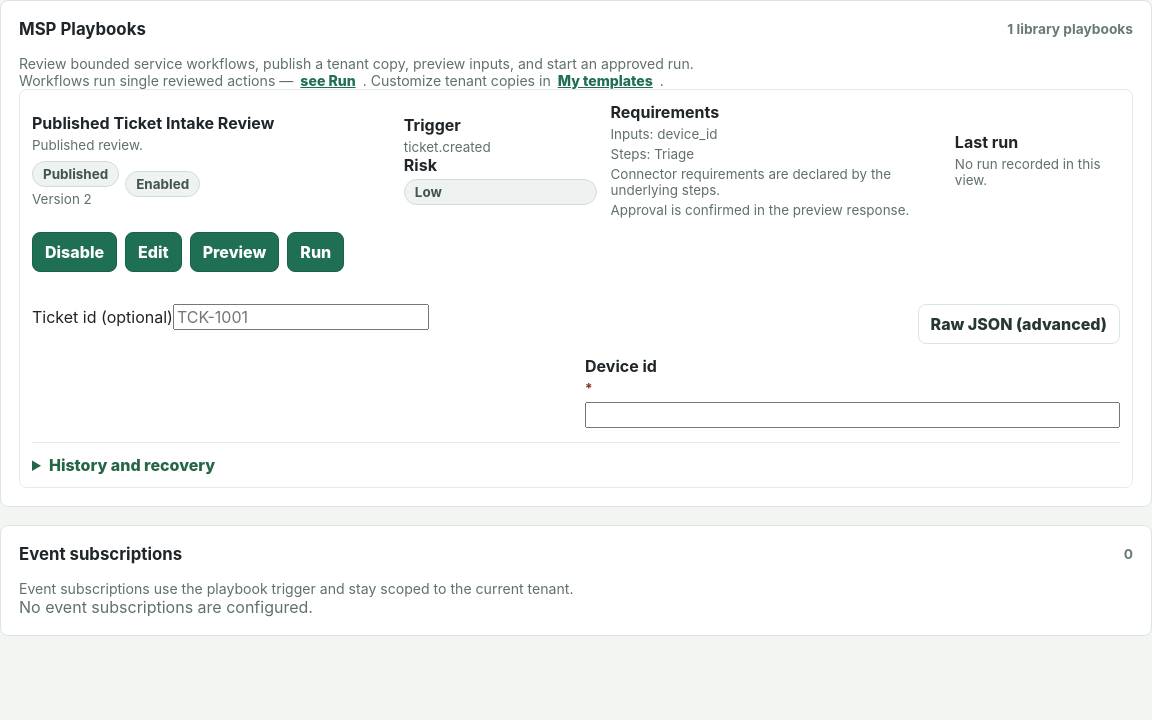
Playbooks › validates the published definition inputs used by preview
Expected: the text "Published Ticket Intake Review" is shown, [32,113,274,133]
Click the button "Preview" at (234, 252), box [190,232,279,272]
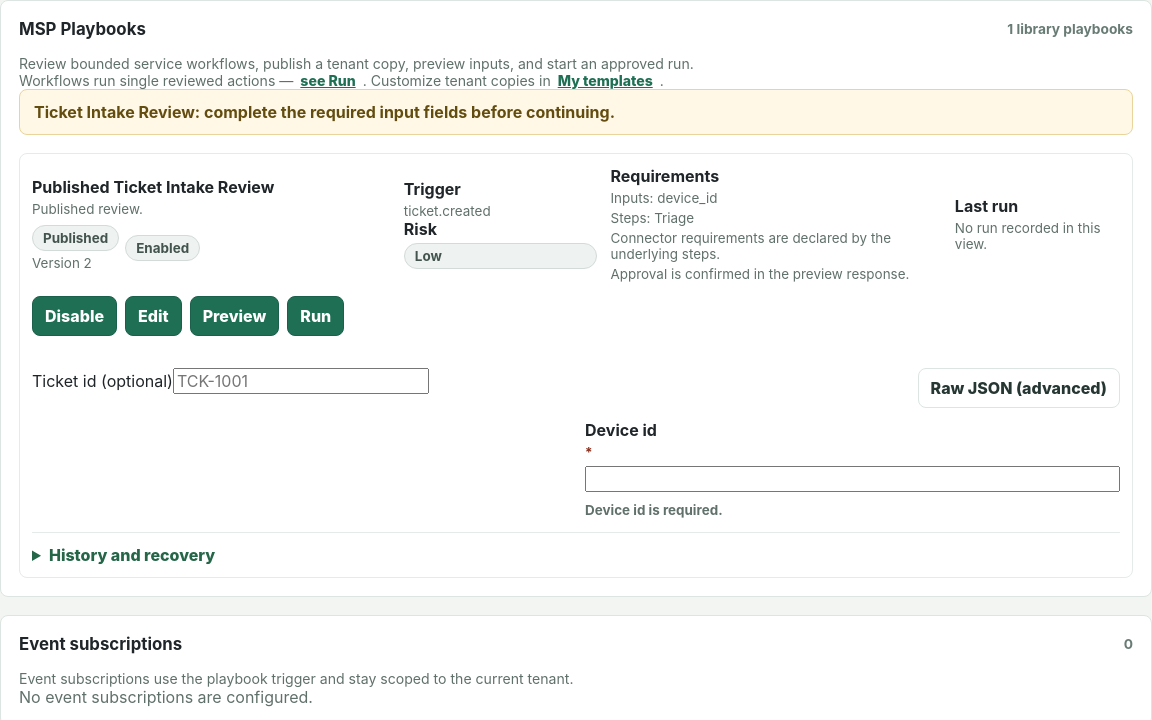
Now the text "Device id is required." is shown, box [585,502,723,518]
